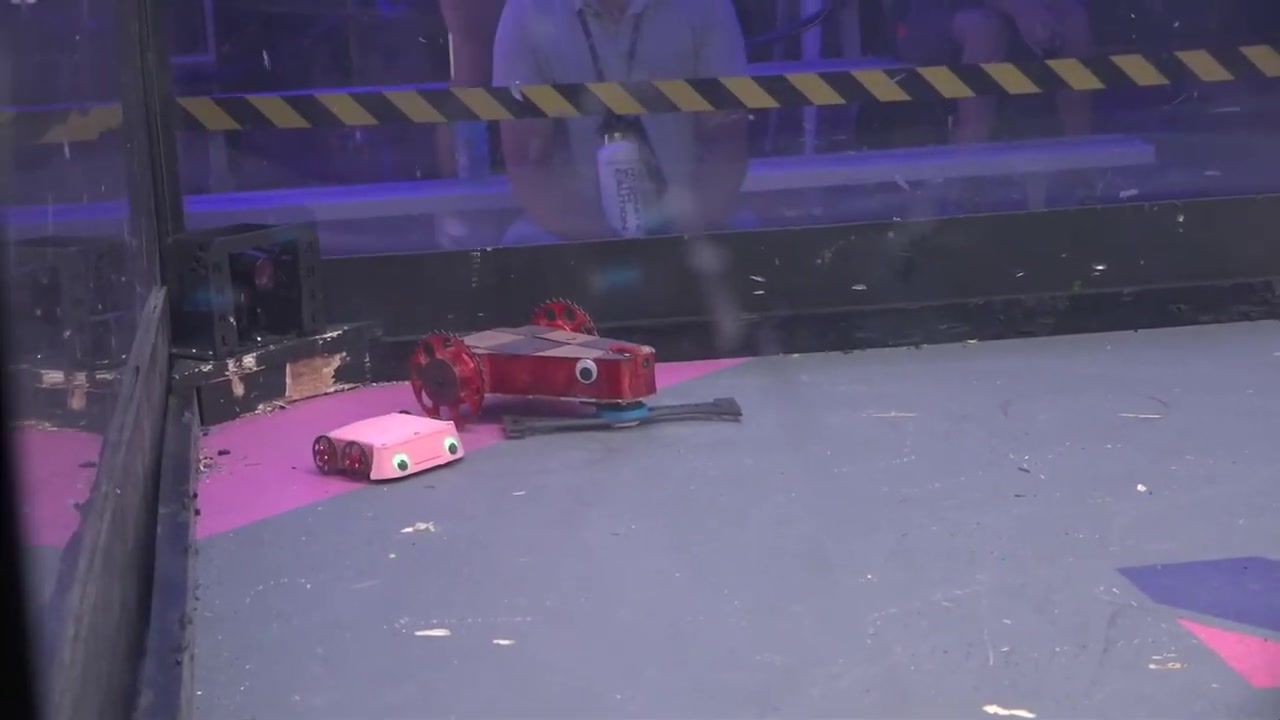combatbot: (404, 294, 657, 415)
minibot: (311, 411, 468, 483)
